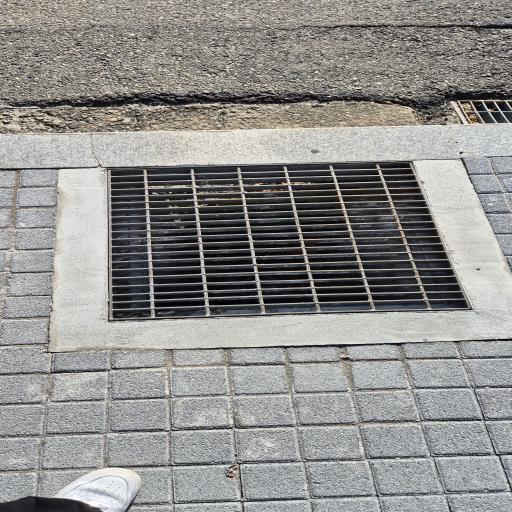drain: (109, 162, 470, 321)
